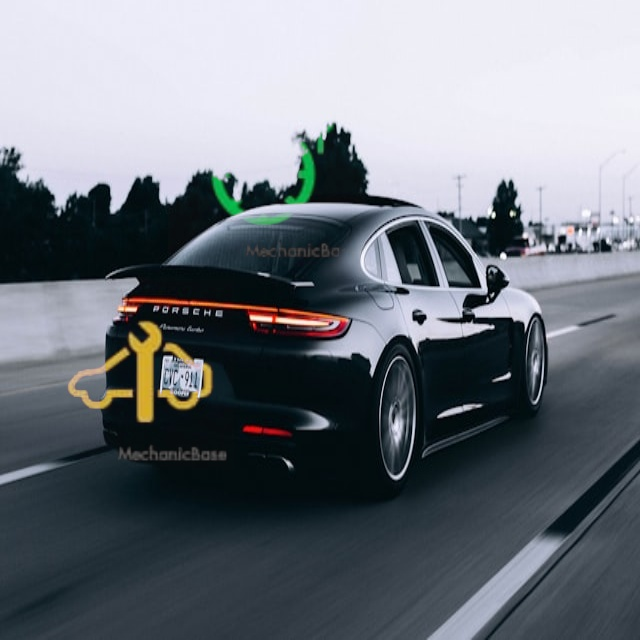symbol: (168, 70, 365, 267), (43, 279, 234, 470)
